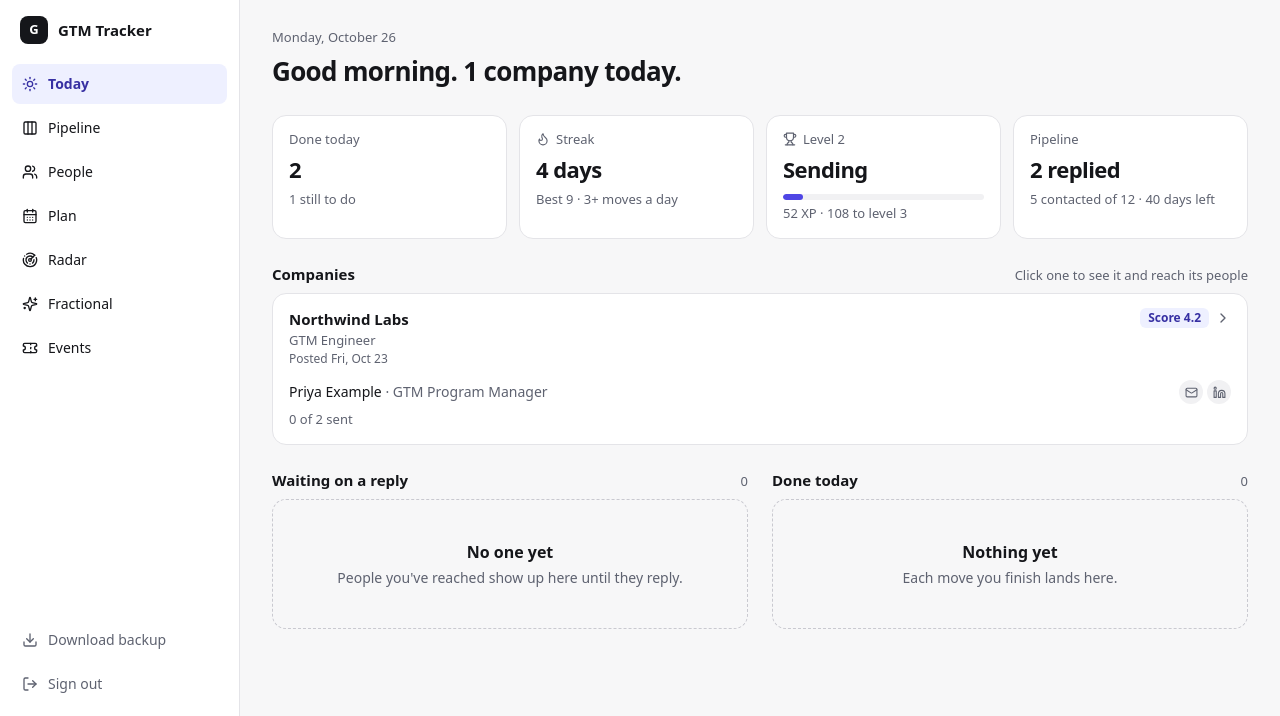
Test: Today › keeps the posting and what you did with the application, and lets you undo it
Click the button "Northwind Labs": x=349, y=319 [273,294,1247,444]
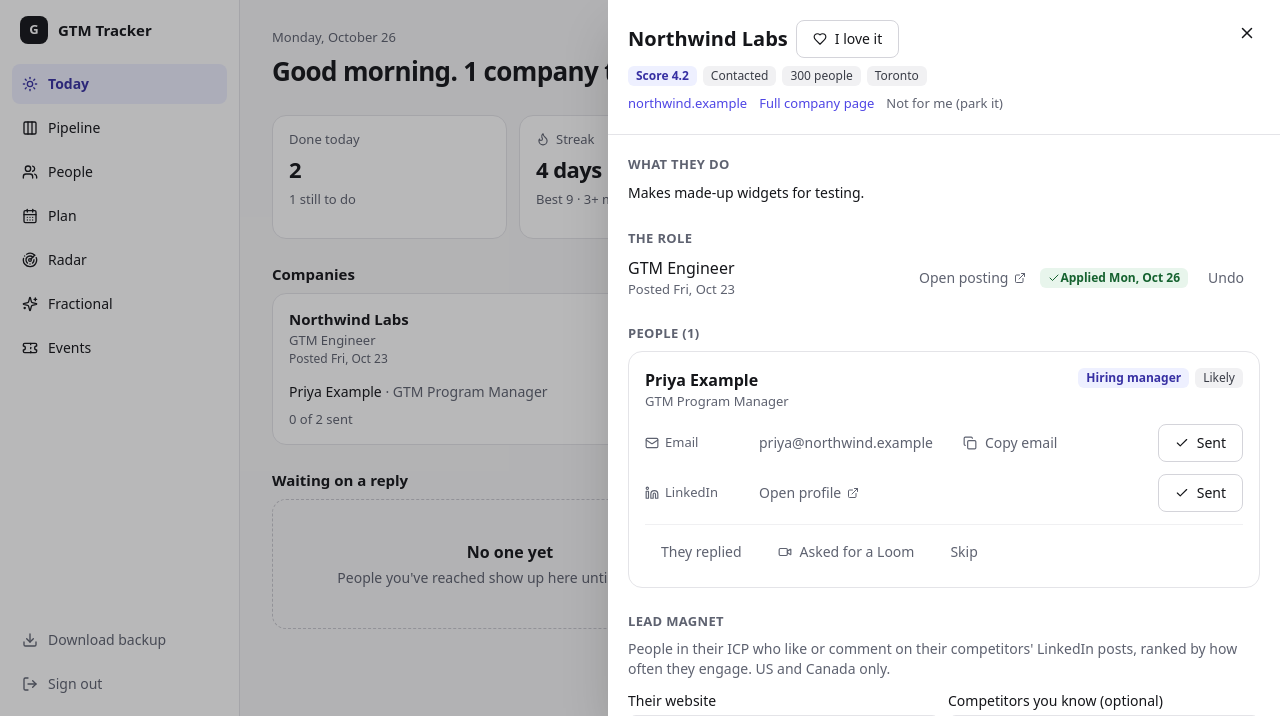
Check: the text "Applied Mon, Oct 26" is shown, box [1040,268,1188,288]
Click the button "Undo": x=1226, y=278 [1192,259,1260,297]
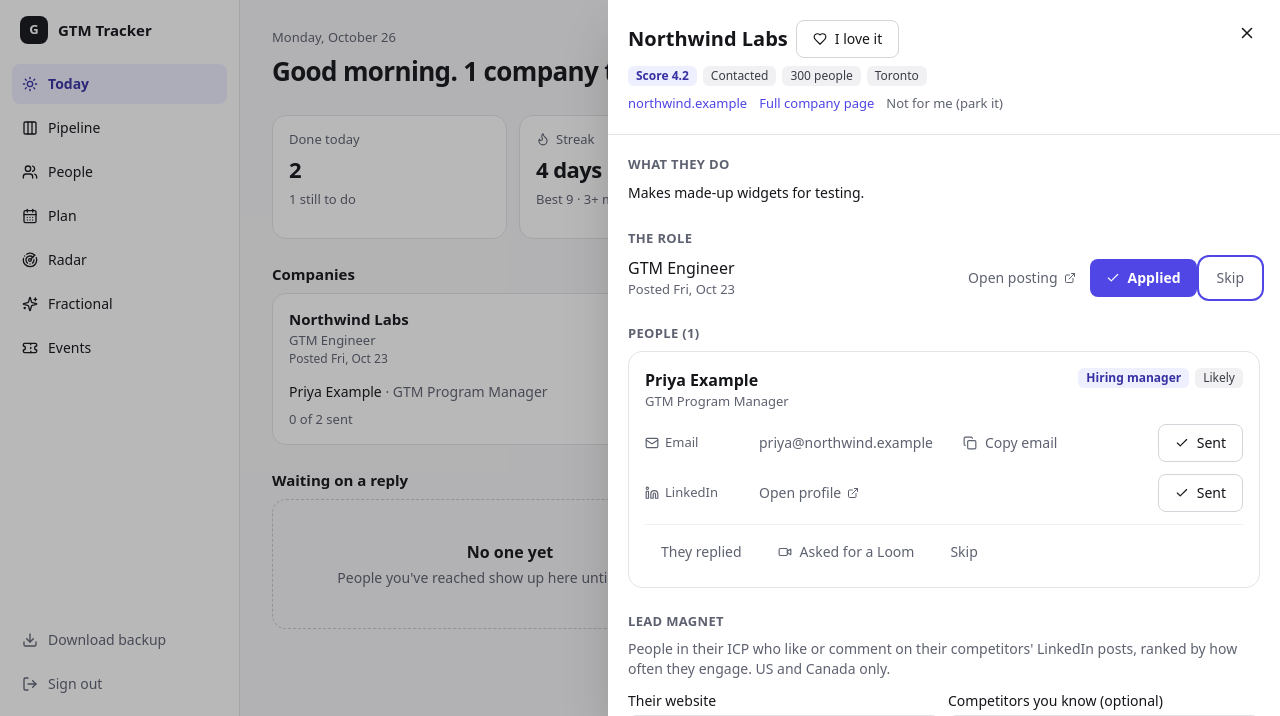
Check: the button "Applied" is shown, box [1090,259,1197,297]
Check: the link "Open posting" is shown, box [968,268,1076,287]
Check: the button with aria-label "Skip the application" is shown, box [1201,259,1260,297]
